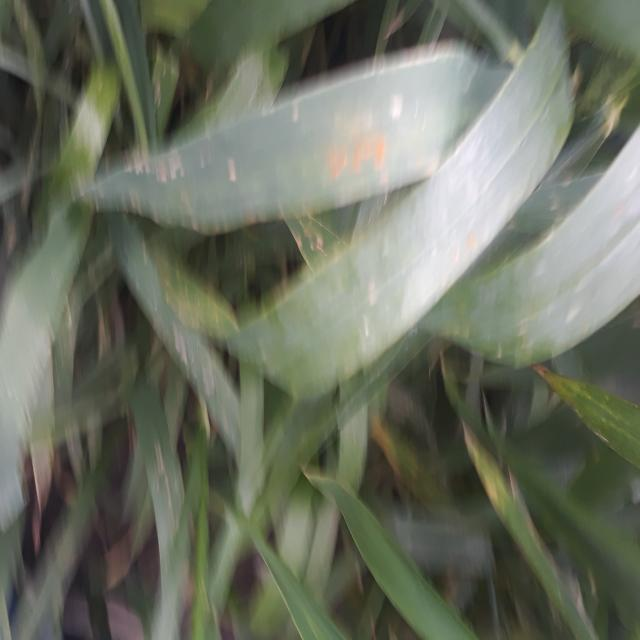orang_rust: (324, 134, 399, 193)
powder_mildew: (253, 218, 543, 352), (542, 160, 640, 463), (118, 259, 240, 416), (104, 124, 243, 239), (140, 432, 188, 528), (271, 84, 309, 150), (389, 65, 416, 125)
